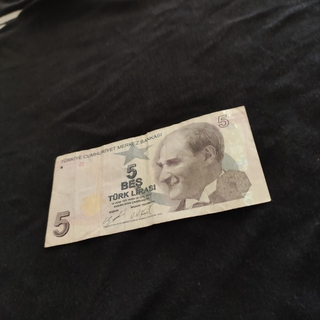5TLFront: (44, 105, 274, 247)
